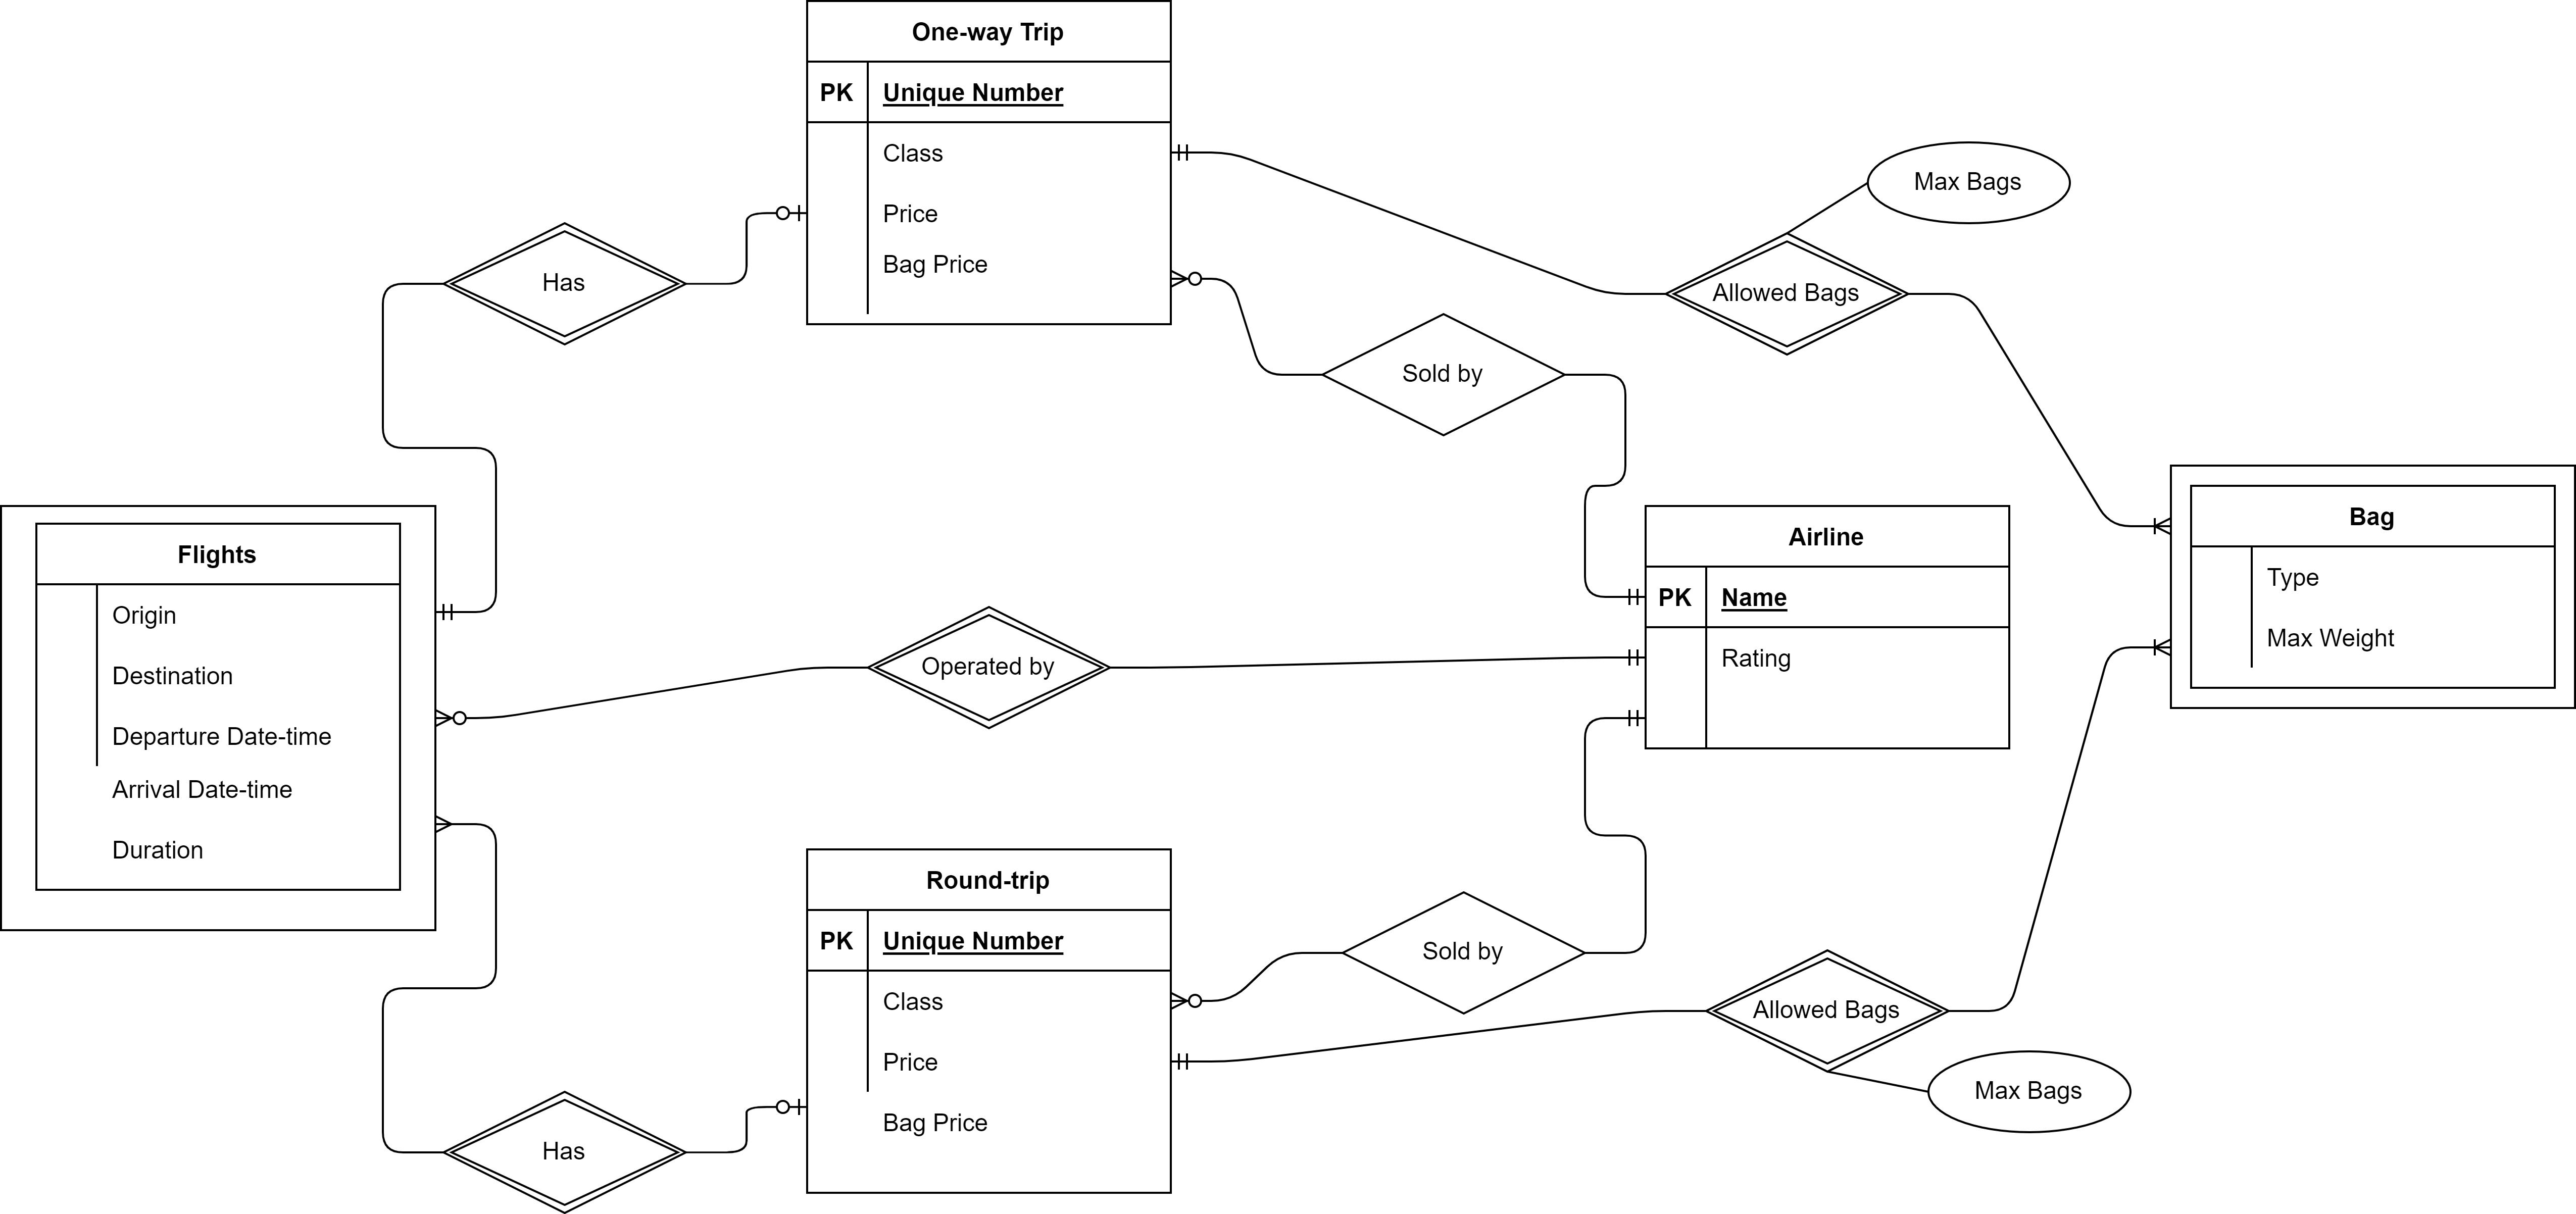attribute: (1865, 140, 2072, 225), (1929, 1051, 2131, 1134)
entity: (802, 0, 1183, 333), (1641, 501, 2014, 752)
relationship: (802, 843, 1175, 1198), (1322, 309, 1562, 439), (1349, 889, 1579, 1017)
weakentity: (0, 496, 440, 936), (2169, 460, 2576, 715)
weakrelationship: (1707, 948, 1942, 1089), (867, 613, 1109, 736), (447, 1091, 688, 1214), (440, 227, 687, 345), (1669, 233, 1911, 353)
